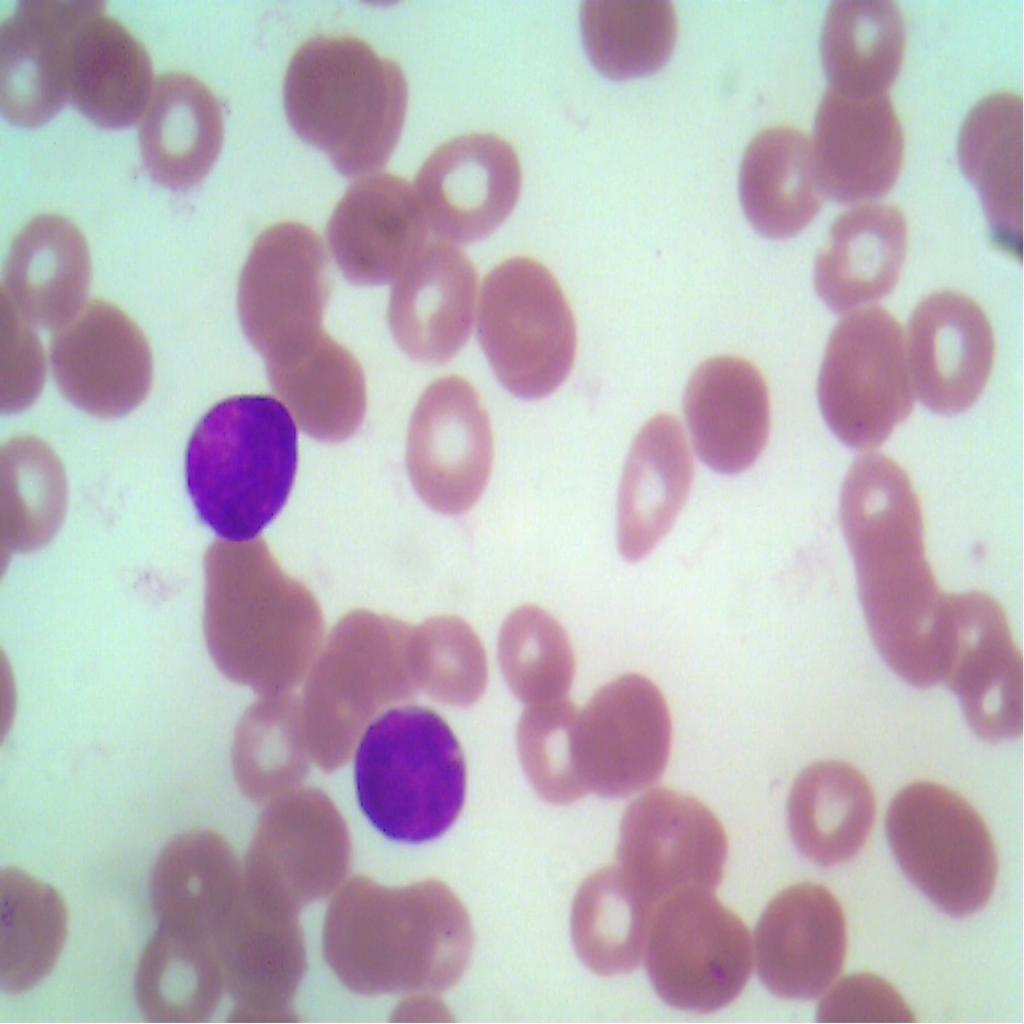Eritrosit: (53, 290, 184, 431), (808, 296, 919, 458), (881, 775, 1008, 912), (476, 257, 586, 404), (406, 379, 508, 531), (559, 669, 679, 797), (132, 58, 238, 198), (671, 348, 781, 479), (370, 868, 478, 998), (246, 778, 353, 908), (209, 888, 316, 1018), (609, 414, 701, 565), (553, 854, 659, 984), (646, 889, 752, 1011), (906, 296, 1004, 426), (418, 127, 524, 247), (836, 451, 926, 591), (330, 171, 433, 291), (620, 782, 726, 897), (56, 15, 154, 138), (806, 94, 915, 204), (264, 337, 366, 451), (759, 879, 849, 1005), (150, 804, 241, 927), (0, 429, 81, 564), (322, 57, 415, 174), (238, 222, 322, 351), (889, 602, 1009, 692), (573, 0, 684, 97), (123, 904, 213, 1023), (326, 602, 424, 710), (388, 251, 478, 368), (202, 527, 272, 677), (738, 121, 822, 242), (814, 202, 908, 310), (858, 527, 935, 658), (788, 752, 882, 859), (942, 88, 1023, 212), (0, 210, 89, 322), (283, 32, 371, 144), (294, 648, 380, 760), (0, 864, 76, 989), (326, 878, 409, 991), (0, 0, 69, 135), (943, 639, 1023, 755), (244, 586, 322, 704), (228, 694, 314, 799), (399, 612, 496, 705), (821, 0, 908, 100), (518, 687, 586, 807), (498, 604, 586, 695)
Limfoblast: (180, 384, 306, 554), (352, 702, 474, 851)
